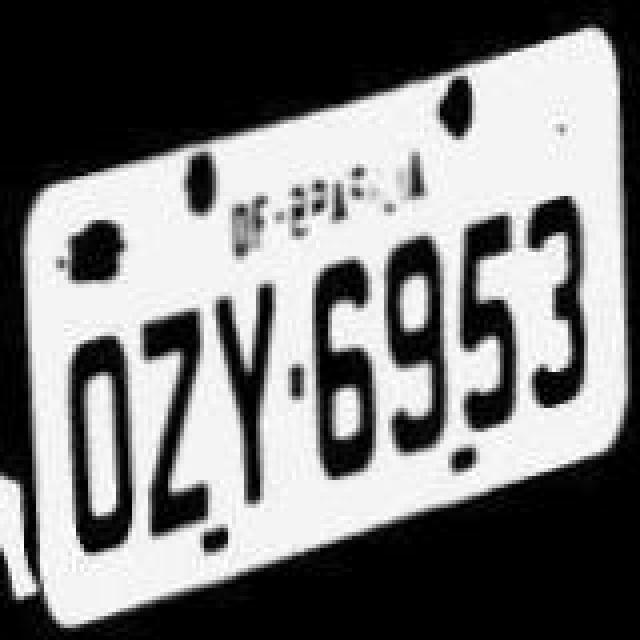3: (518, 174, 598, 434)
5: (444, 182, 528, 450)
6: (296, 246, 376, 526)
9: (378, 196, 450, 468)
O: (52, 300, 140, 580)
Y: (208, 248, 280, 528)
Z: (130, 268, 214, 548)
